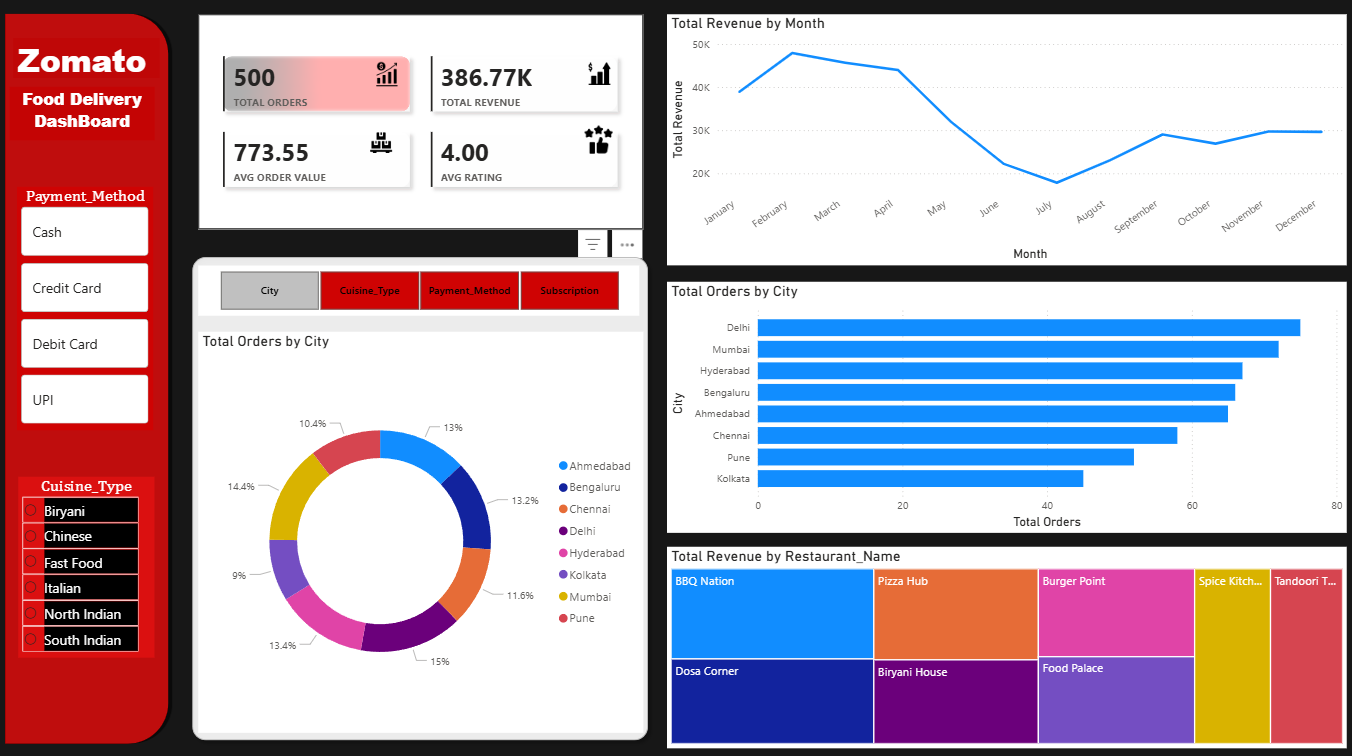

This screenshot's page, from the dashboard's own definition file:
{"tool":"powerbi","page":{"name":"Executive Overview","canvas":[1600,900],"ordinal":0},"visuals":[{"type":"shape","box":[15.6,18.4,199.9,859.2],"z":0},{"type":"textbox","title":"Zomato","box":[31.2,66.6,168.7,46.8],"z":1000},{"type":"textbox","title":"Food Delivery DashBoard","box":[25.5,109.2,168.7,62.4],"z":2000},{"type":"cardVisual","fields":{"Data":["Zomato_Orders_500.Total Orders","Zomato_Orders_500.Total Revenue","Zomato_Orders_500.Avg Order value","Zomato_Orders_500.Avg Rating"]},"box":[245,25,517.5,250],"z":3000},{"type":"image","box":[450.6,79.9,29.1,29.1],"z":4000},{"type":"image","box":[696.2,79.9,32,27.6],"z":5000},{"type":"image","box":[437.2,161.6,41.9,25.6],"z":6000},{"type":"image","box":[694.2,154.7,32.6,32.6],"z":7000},{"type":"shape","box":[229.7,298,548,579.9],"z":8000},{"type":"donutChart","fields":{"Series":["Zomato_Orders_500.City"],"Y":["Zomato_Orders_500.Total Orders"]},"box":[245.6,393.9,517.4,466.6],"z":9000},{"type":"slicer","fields":{"Values":["City Silcer.City Silcer"]},"box":[245.6,316.9,513.1,58.1],"z":10000},{"type":"lineChart","fields":{"Category":["Zomato_Orders_500.Order_Date.Variation.Date Hierarchy.Month"],"Y":["Zomato_Orders_500.Total Revenue"]},"box":[790.7,24.7,790.7,292.2],"z":11000},{"type":"barChart","fields":{"Category":["Zomato_Orders_500.City"],"Y":["Zomato_Orders_500.Total Orders"]},"box":[790.7,335.8,790.7,292.2],"z":12000},{"type":"treemap","fields":{"Group":["Zomato_Orders_500.Restaurant_Name"],"Values":["Zomato_Orders_500.Total Revenue"]},"box":[790.7,643.9,790.7,234],"z":13000},{"type":"advancedSlicerVisual","fields":{"Values":["Zomato_Orders_500.Payment_Method"]},"box":[34.9,225.3,158.4,283.4],"z":14000},{"type":"listSlicer","fields":{"Values":["Zomato_Orders_500.Cuisine_Type"]},"box":[36.3,562.5,158.4,210.8],"z":15000}]}

Visuals, with their boxes in screenshot pixels (x1, y1, x2, y2), scaled from the page's 1600x900 canvas onto the 1352x756 screenshot:
shape: bbox=[13, 15, 182, 737]
"Zomato" textbox: bbox=[26, 56, 169, 95]
"Food Delivery DashBoard" textbox: bbox=[22, 92, 164, 144]
cardVisual - Zomato_Orders_500.Total Orders x Zomato_Orders_500.Total Revenue: bbox=[207, 21, 644, 231]
image: bbox=[381, 67, 405, 92]
image: bbox=[588, 67, 615, 90]
image: bbox=[369, 136, 405, 157]
image: bbox=[587, 130, 614, 157]
shape: bbox=[194, 250, 657, 737]
donutChart - Zomato_Orders_500.City x Zomato_Orders_500.Total Orders: bbox=[208, 331, 645, 723]
slicer - City Silcer.City Silcer: bbox=[208, 266, 641, 315]
lineChart - Zomato_Orders_500.Order_Date.Variation.Date Hierarchy.Month x Zomato_Orders_500.Total Revenue: bbox=[668, 21, 1336, 266]
barChart - Zomato_Orders_500.City x Zomato_Orders_500.Total Orders: bbox=[668, 282, 1336, 528]
treemap - Zomato_Orders_500.Restaurant_Name x Zomato_Orders_500.Total Revenue: bbox=[668, 541, 1336, 737]
advancedSlicerVisual - Zomato_Orders_500.Payment_Method: bbox=[29, 189, 163, 427]
listSlicer - Zomato_Orders_500.Cuisine_Type: bbox=[31, 472, 165, 650]
